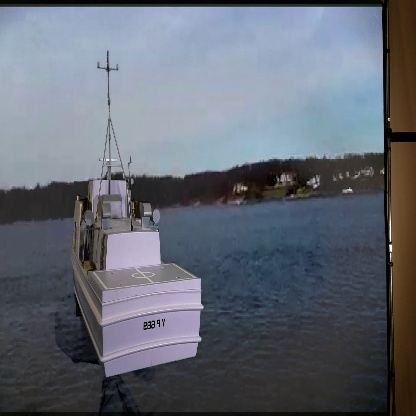YP689: (68, 49, 204, 377)
